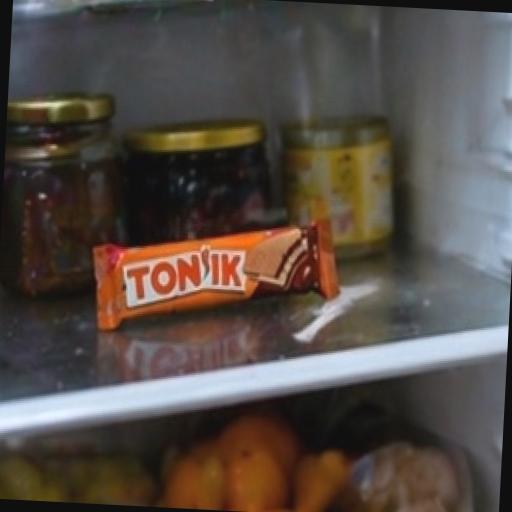tonik: (36, 160, 446, 478)
